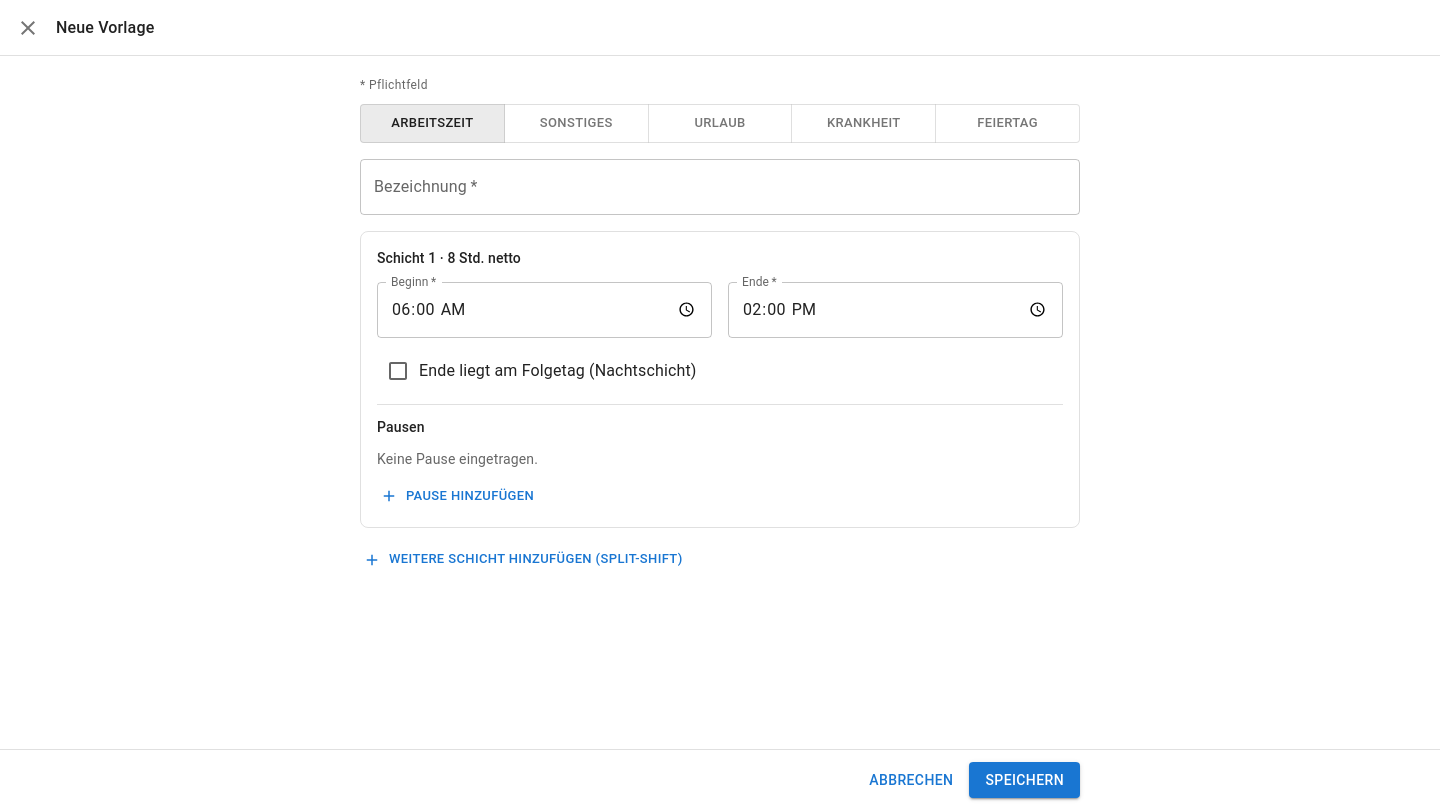
ShiftTemplateDialog › clears the error again as soon as the name is typed
Click the button "Speichern" at (1025, 780), box [969,762,1080,798]
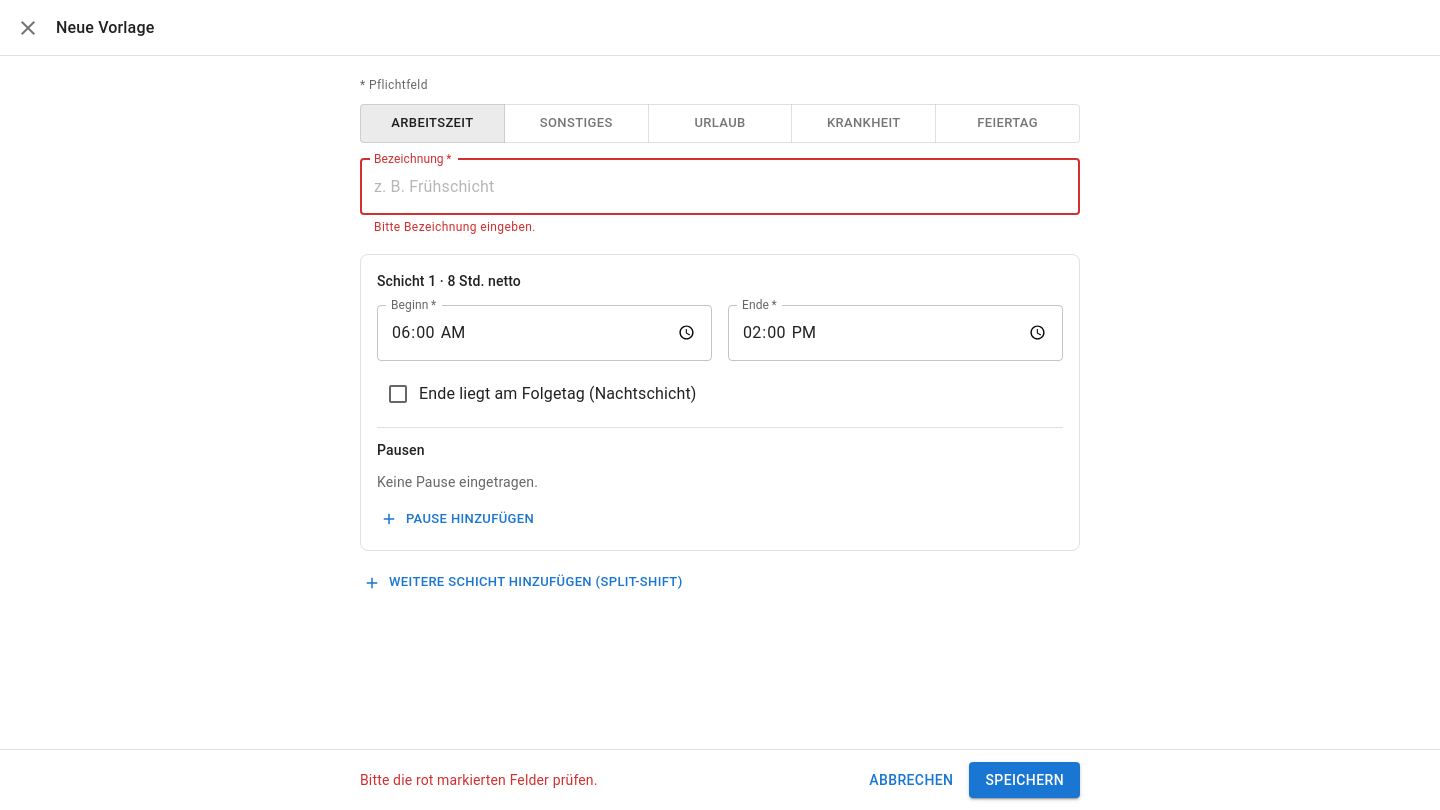
Type "Frühschicht" into the field labelled "Bezeichnung" at (720, 187), box [360,159,1080,215]
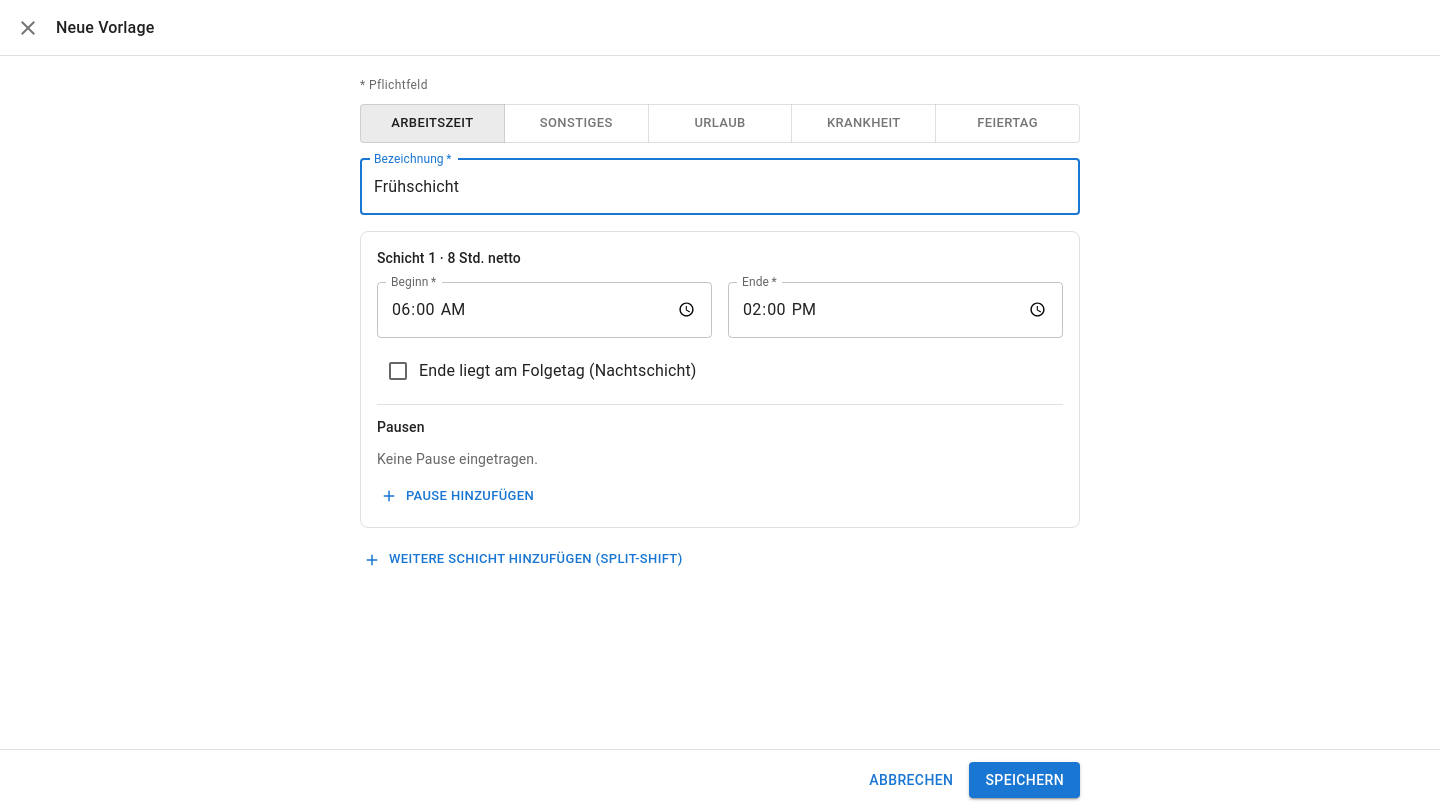
Expected: the text "Bitte Bezeichnung eingeben." is gone
